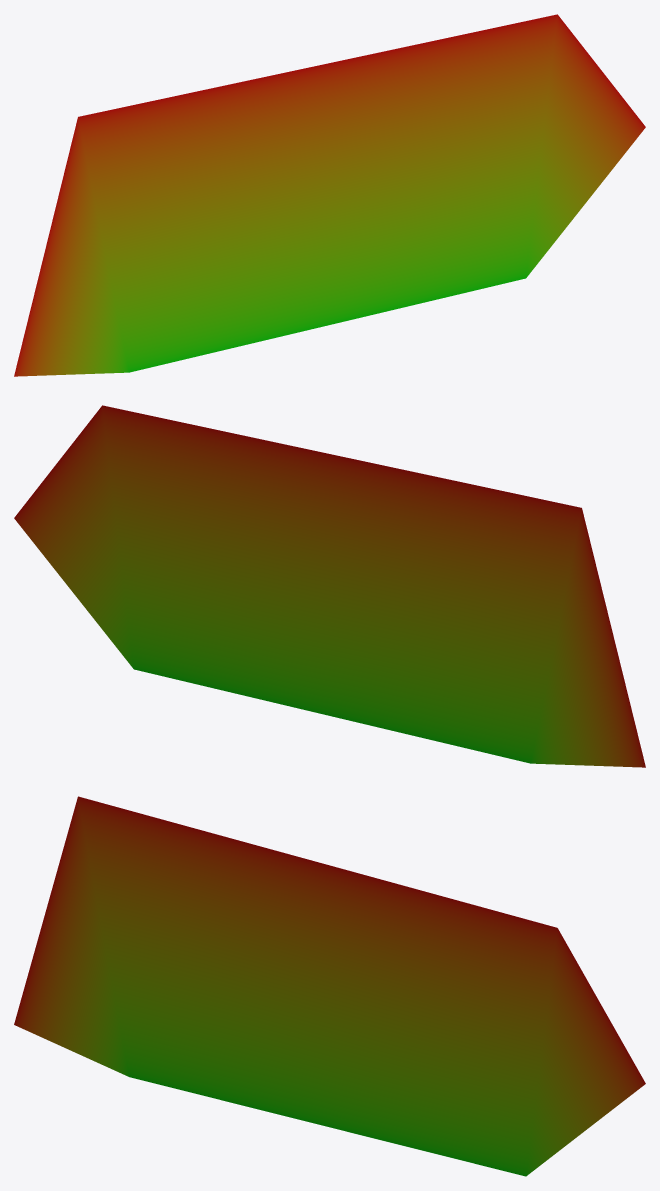
File: Tundra Grass_LOD7_Var31_wk2oaeyqx.fbx
3 renders of one model, top to bottom at view 1: azimuth 30°, elevation 25°; view 2: azimuth 150°, elevation 25°; view 3: azimuth 330°, elevation 25°, orthographic.
Visible parts, largest first — view 1: _zb92_Var31_LOD7; view 2: _zb92_Var31_LOD7; view 3: _zb92_Var31_LOD7.
Part boxes in pixels (bbox=[...]): _zb92_Var31_LOD7: bbox=[14, 14, 645, 376]; _zb92_Var31_LOD7: bbox=[14, 405, 645, 767]; _zb92_Var31_LOD7: bbox=[14, 796, 645, 1176].
Size of the model in its own units: 48.26 by 19.77 by 8.26e-07.
